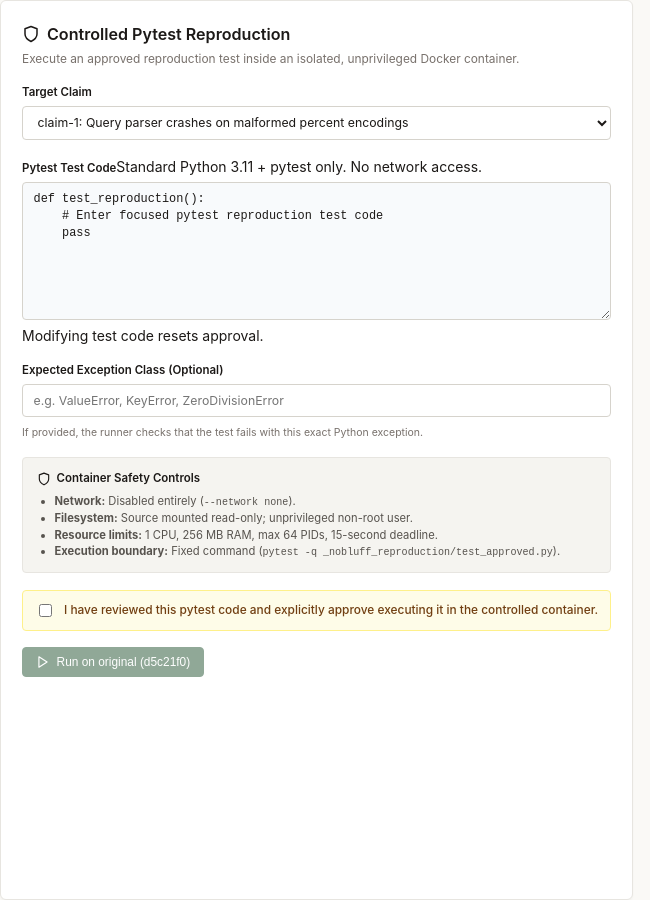
Screen 7: Approved Reproduction Form › resets approval whenever test code or expected failure is modified (Requirement 10)
Click the checkbox labelled "explicitly approve executing it".
click(45, 610)  # box [39, 604, 52, 617]
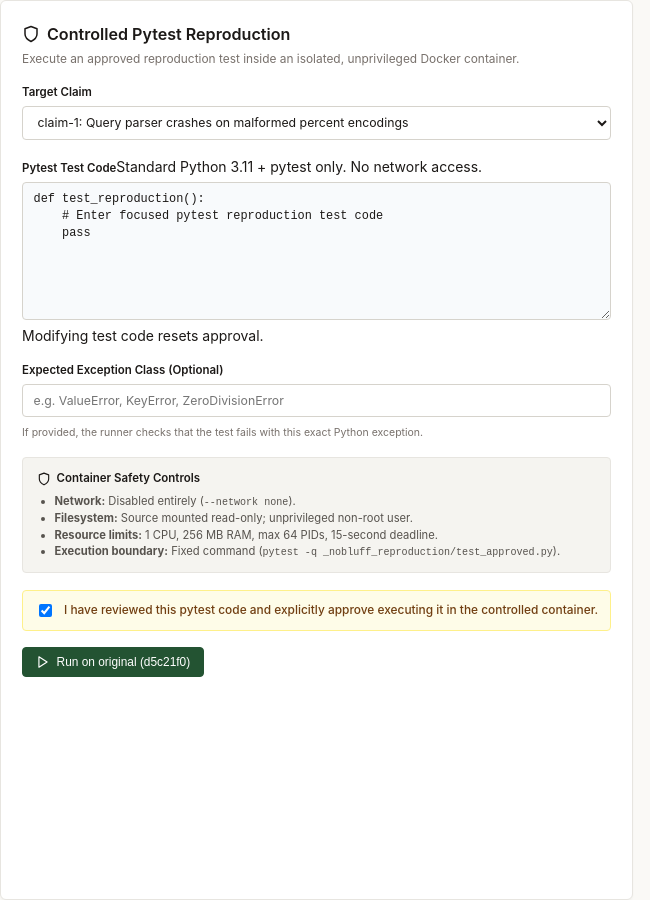
Now the checkbox labelled "explicitly approve executing it" is checked, box [39, 604, 52, 617]
Now the button "Run on original (d5c21f0)" is enabled, box [22, 647, 204, 677]
// Edit test code
Replace the text in the text box labelled "Pytest Test Code" with "def test_new(): pass" at point(316, 251), box [22, 182, 611, 320]
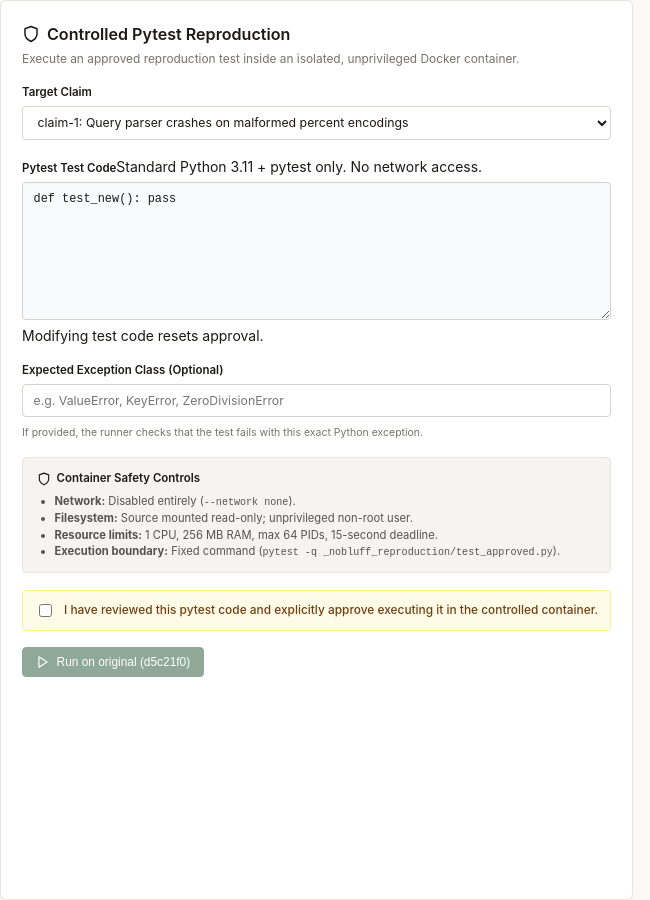
Now the checkbox labelled "explicitly approve executing it" is not checked
Now the button "Run on original (d5c21f0)" is disabled, box [22, 647, 204, 677]
// Re-approve and edit expected failure
Click the checkbox labelled "explicitly approve executing it".
click(45, 610)  # box [39, 604, 52, 617]
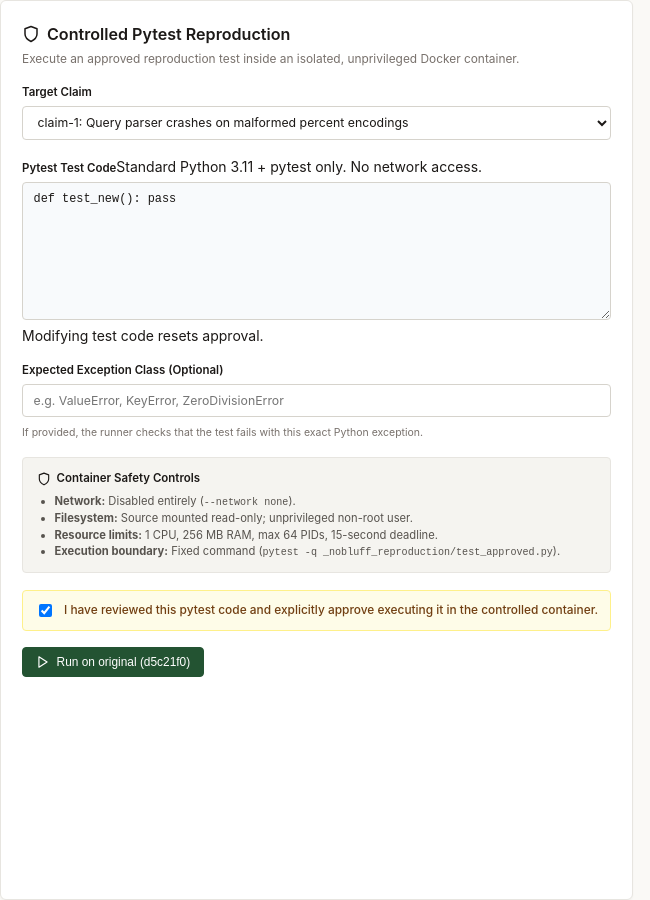
Now the checkbox labelled "explicitly approve executing it" is checked, box [39, 604, 52, 617]
Now the button "Run on original (d5c21f0)" is enabled, box [22, 647, 204, 677]
Type "ValueError" into the field labelled "Expected Exception Class (Optional)".
click(316, 401); type("ValueError")  # box [22, 384, 611, 417]
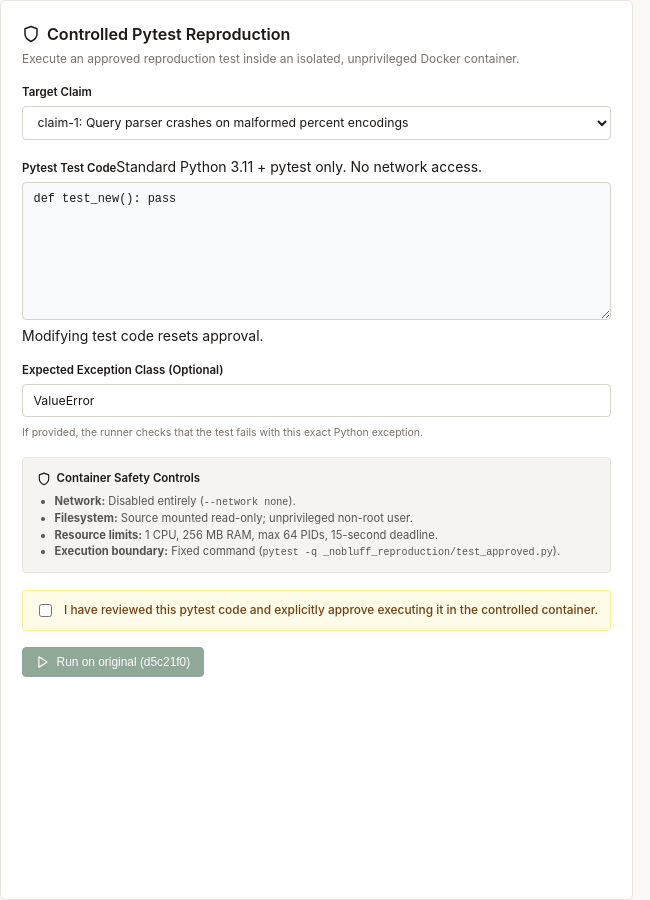
Now the checkbox labelled "explicitly approve executing it" is not checked, box [39, 604, 52, 617]
Now the button "Run on original (d5c21f0)" is disabled, box [22, 647, 204, 677]
